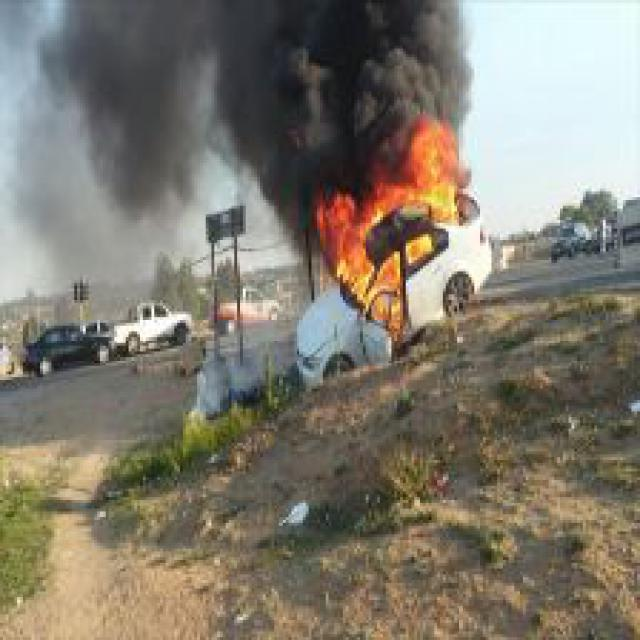fire: (306, 91, 471, 340)
